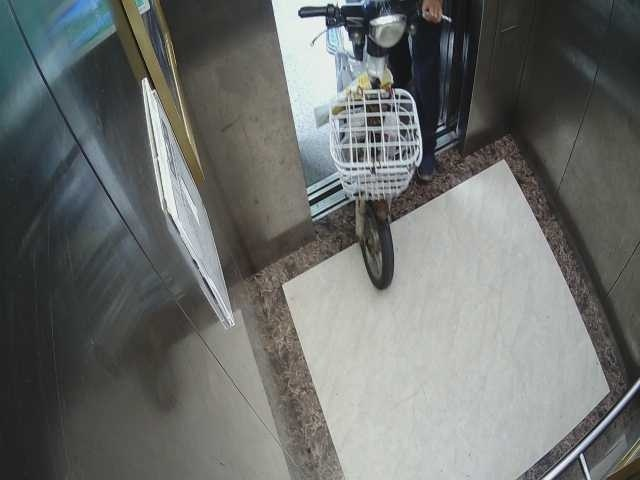emotor: (292, 1, 429, 286)
